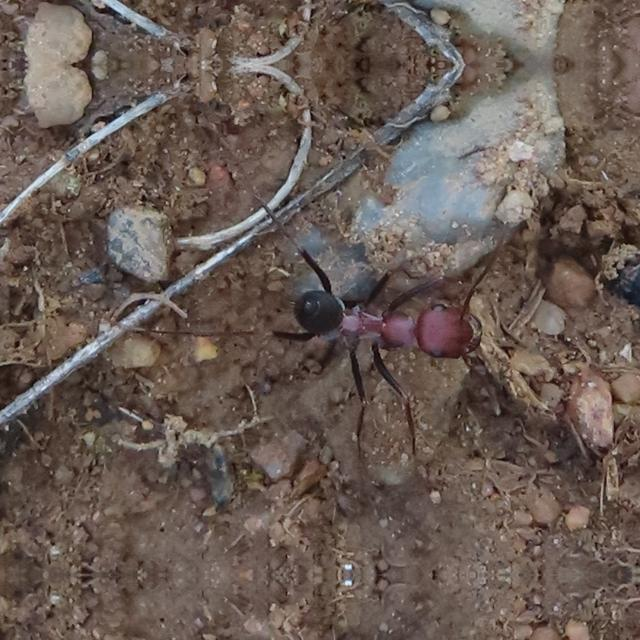Cataglyphis: (269, 264, 505, 386)
